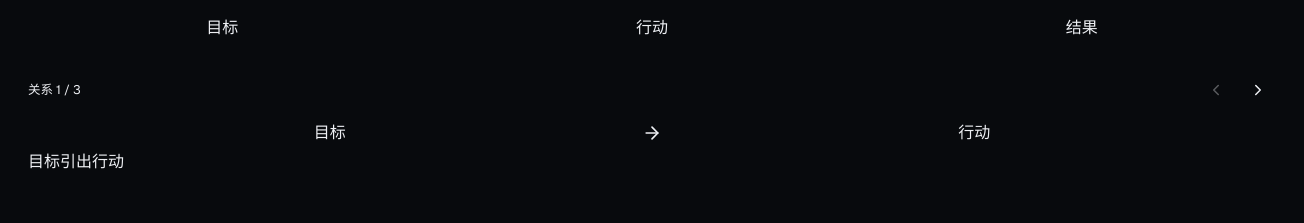
Test: simple question diagrams › keeps cyclic relationships accessible one at a time instead of drawing all lines
The image size is (1304, 223).
Check: the number of buttons named "查看关系" is 1, box top-left (28, 150), bottom-right (124, 174)
Check: the button with aria-label "查看关系" reads "目标引出行动", box top-left (28, 150), bottom-right (124, 174)
Click the button named "下一条关系": [1258, 90] box top-left (1240, 72), bottom-right (1276, 108)
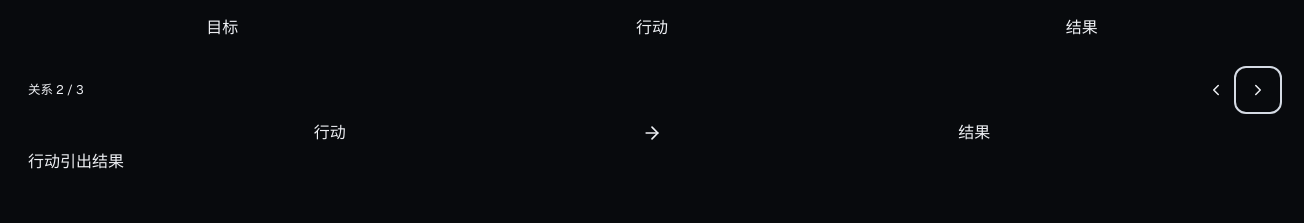
Check: the number of buttons named "查看关系" is 1, box top-left (28, 150), bottom-right (124, 174)
Check: the button with aria-label "查看关系" reads "行动引出结果", box top-left (28, 150), bottom-right (124, 174)
Click the button named "下一条关系": [1258, 90] box top-left (1240, 72), bottom-right (1276, 108)
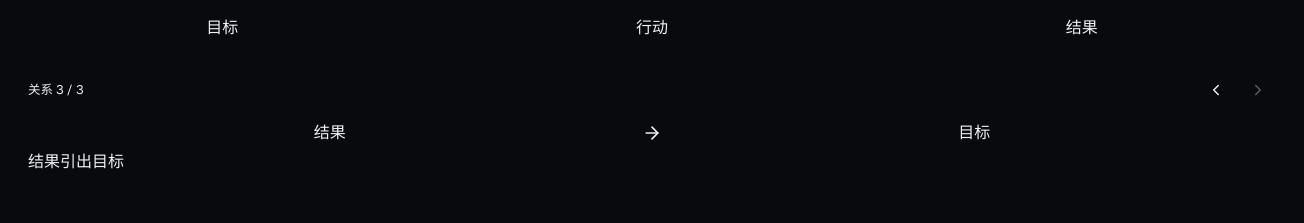
Check: the number of buttons named "查看关系" is 1, box top-left (28, 150), bottom-right (124, 174)
Check: the button with aria-label "查看关系" reads "结果引出目标", box top-left (28, 150), bottom-right (124, 174)
